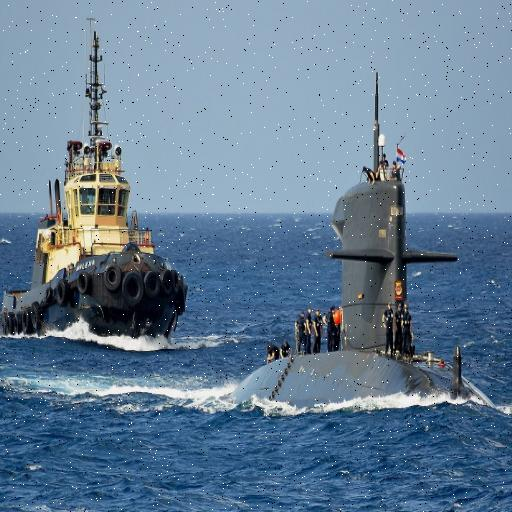submarine: (227, 70, 499, 411)
